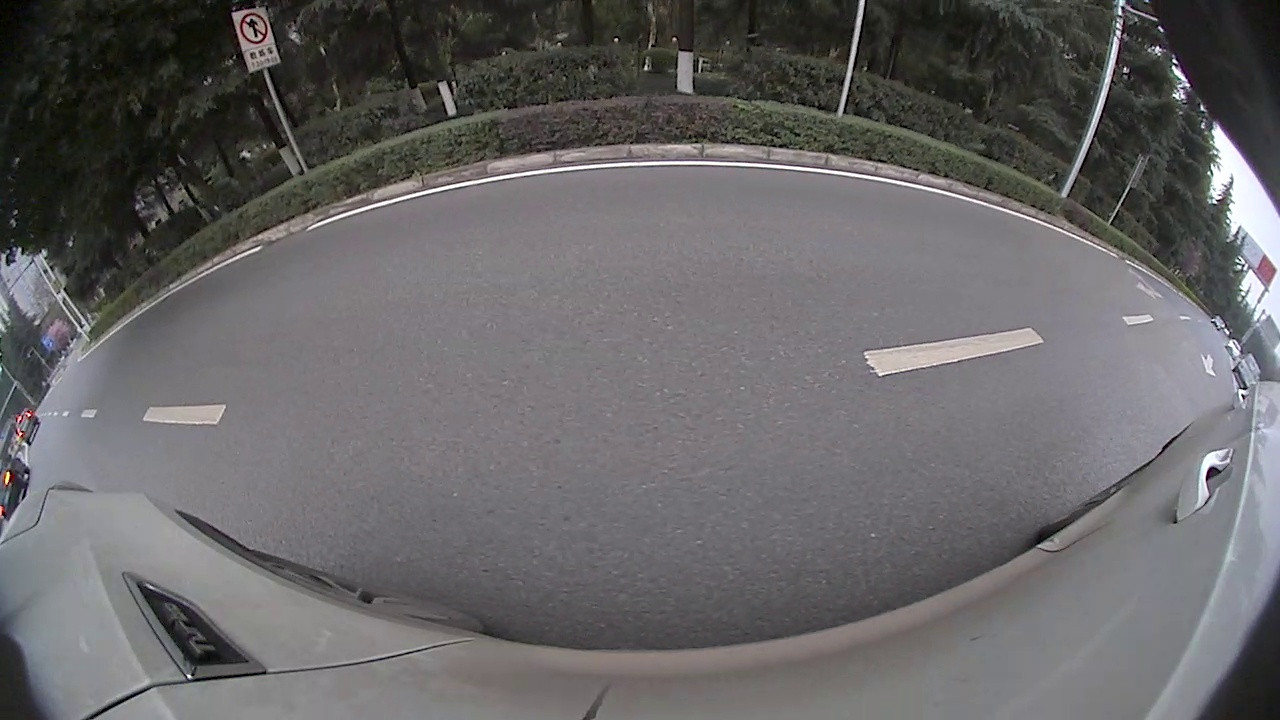bus: (983, 128, 1276, 397), (748, 63, 931, 226)
car: (522, 90, 831, 291), (379, 121, 523, 242), (911, 157, 992, 242)
front: (1040, 233, 1087, 283)
rear: (491, 184, 514, 233), (906, 208, 931, 234)
